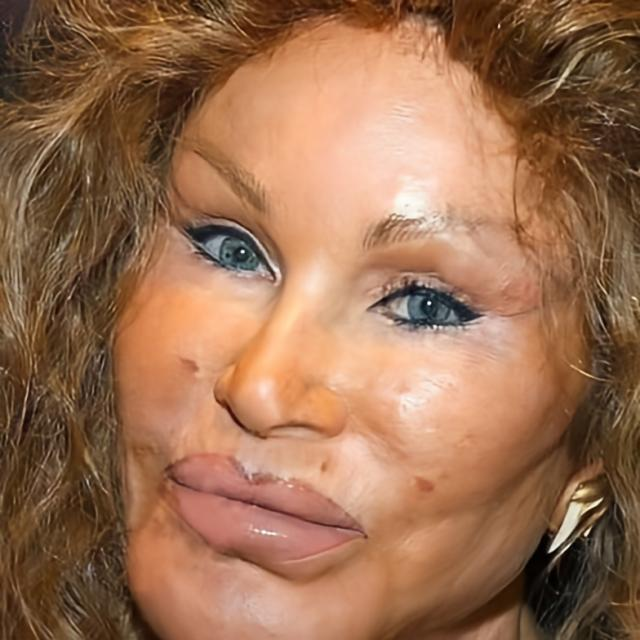neutral: (111, 11, 593, 640)
